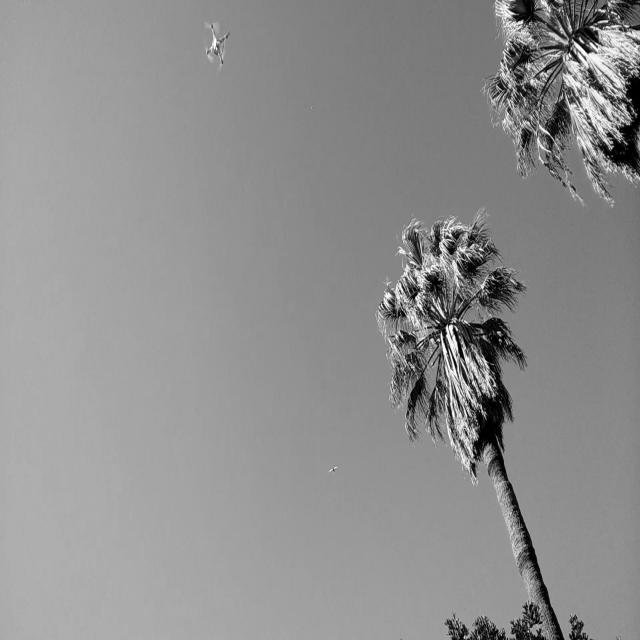drone: (202, 17, 232, 72)
